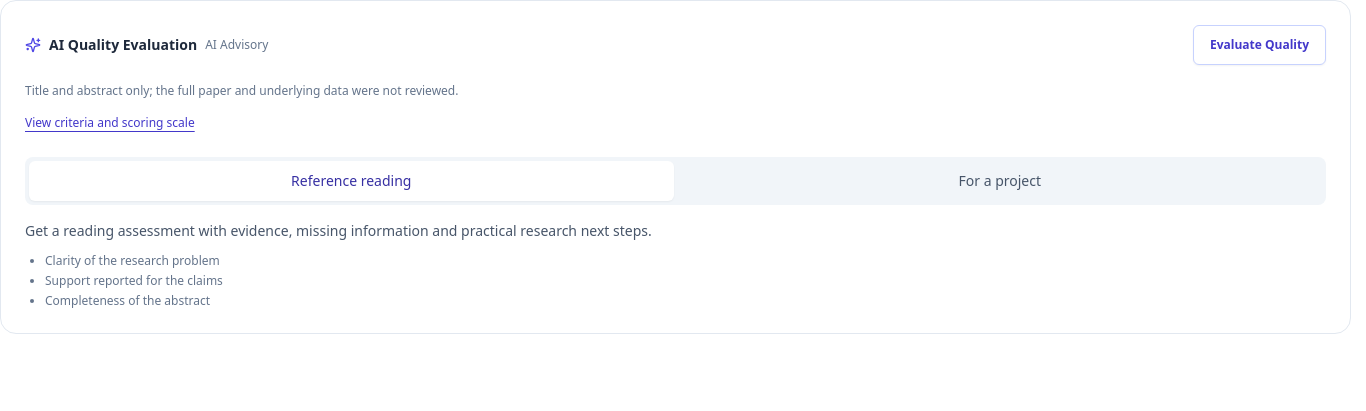
Test case: unverified facts and error codes › translates a failed project job's error code
The image size is (1366, 411).
Click the button "For a project": (1000, 180) x1=678 y1=160 x2=1322 y2=200
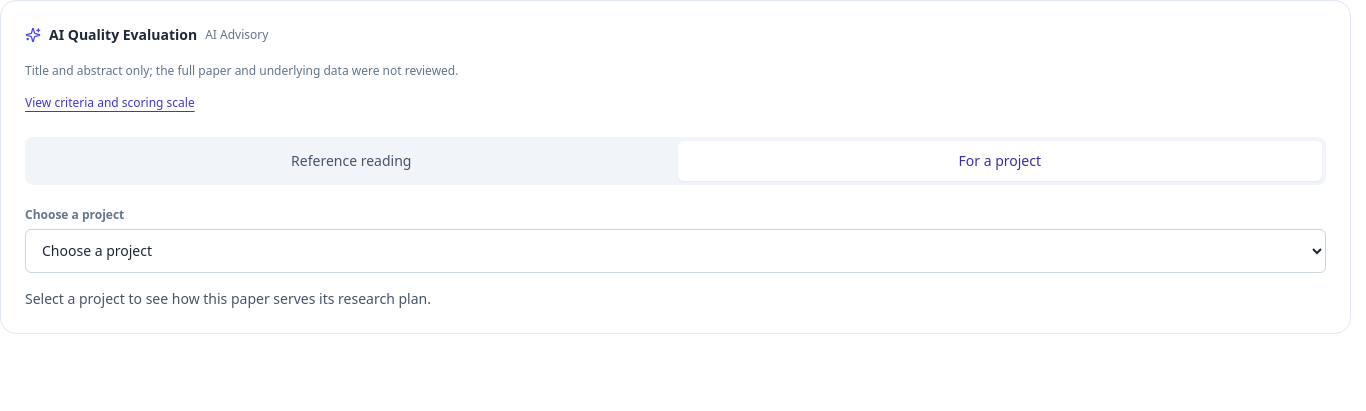
Select "P" in the dropdown labelled "Choose a project": (676, 250) x1=25 y1=228 x2=1326 y2=272
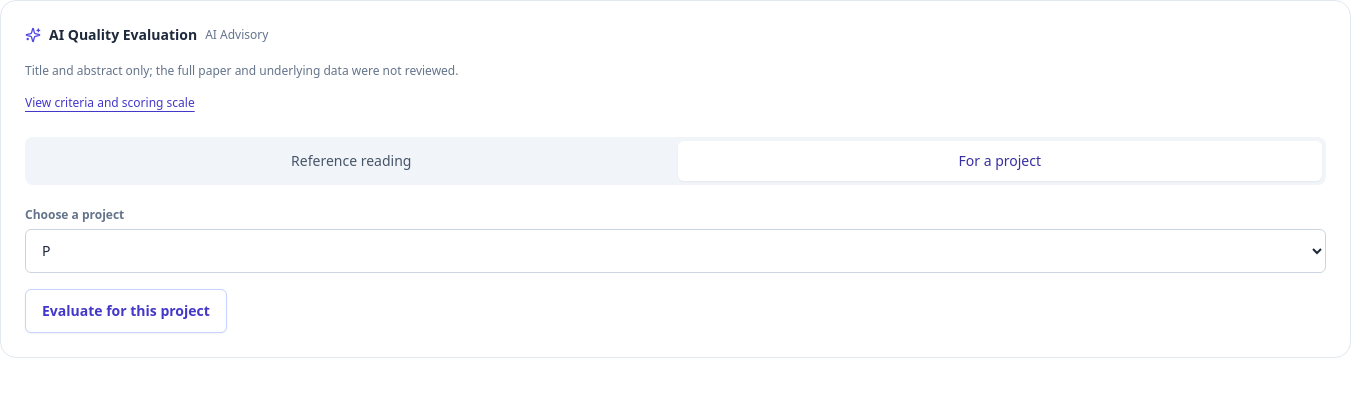
Check: the button "Evaluate for this project" is shown
Click the button "Evaluate for this project": (126, 310) x1=25 y1=288 x2=227 y2=332
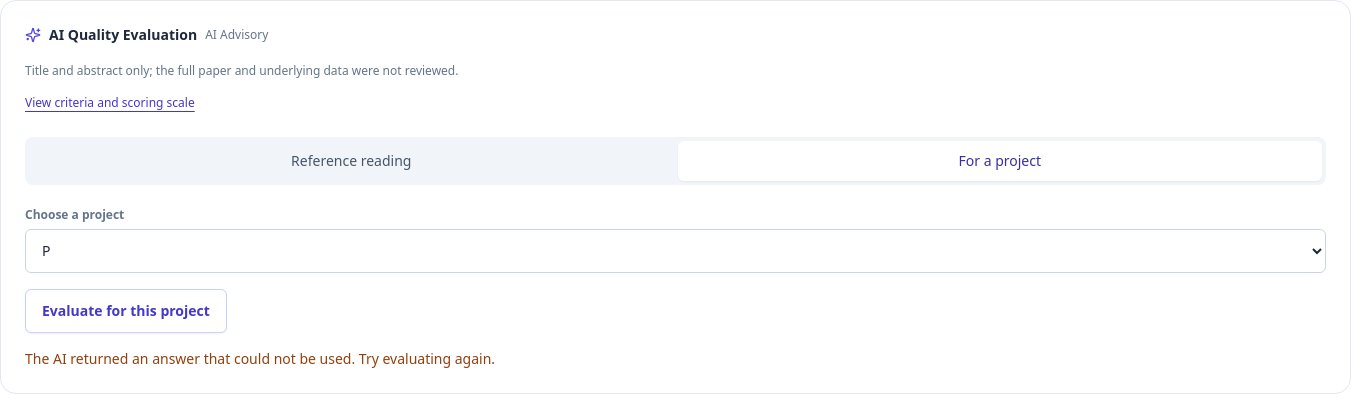
Check: the message "The AI returned an answer that could not be used. Try evaluating again." is shown, box x1=25 y1=348 x2=495 y2=368
